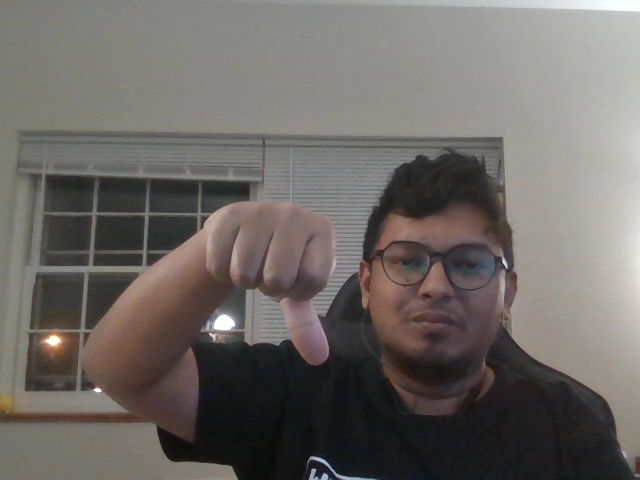yes: (169, 191, 359, 377)
